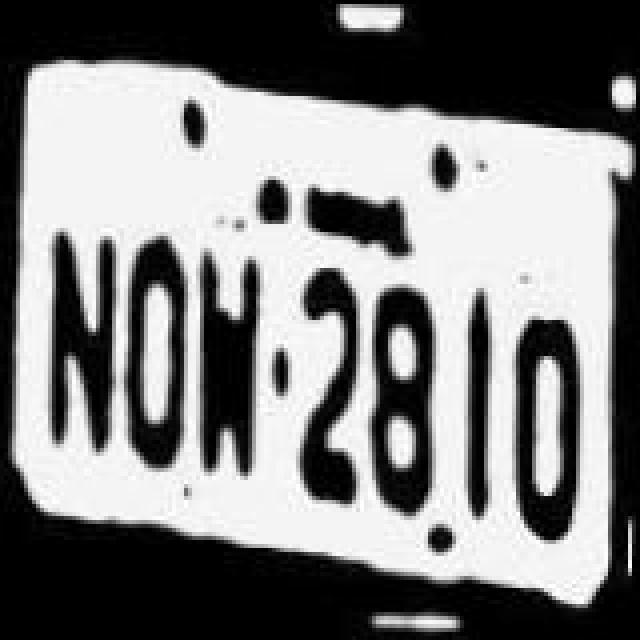1: (452, 266, 500, 534)
2: (294, 258, 370, 526)
8: (366, 274, 442, 522)
N: (38, 212, 126, 476)
O: (120, 224, 196, 480), (510, 302, 586, 550)
W: (192, 248, 268, 480)
